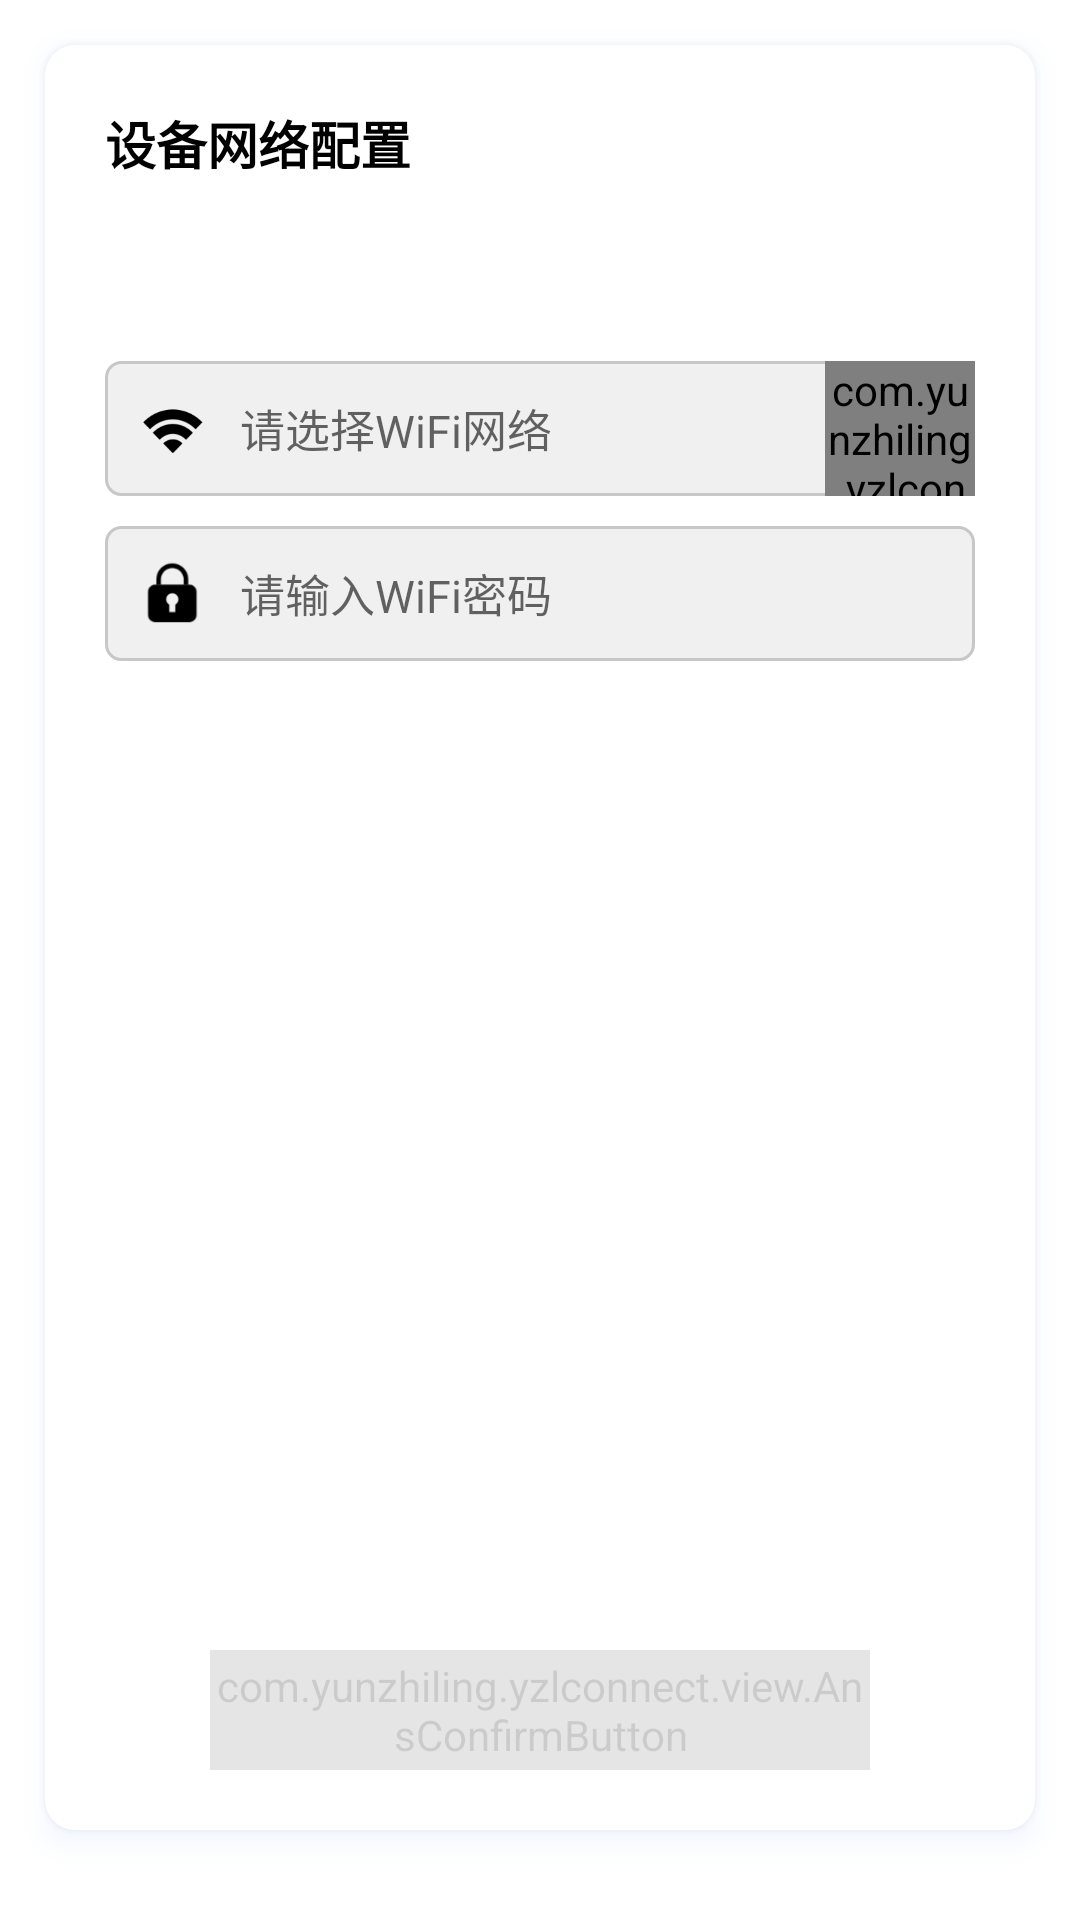

Point at icon controls on the screen. Image size 1080×1920, points as (x=x, y=y).
password: (x=172, y=593)
